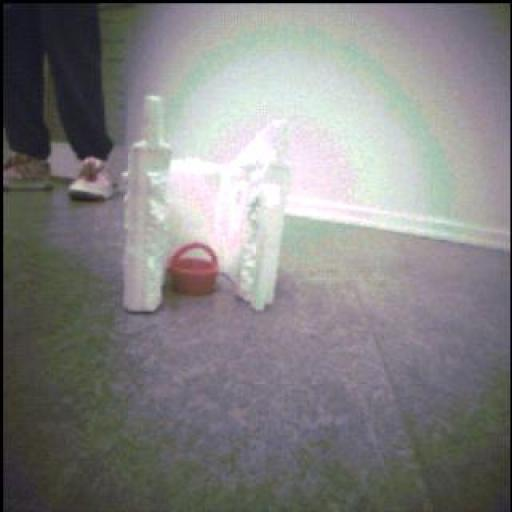Bucket: (168, 241, 222, 296)
